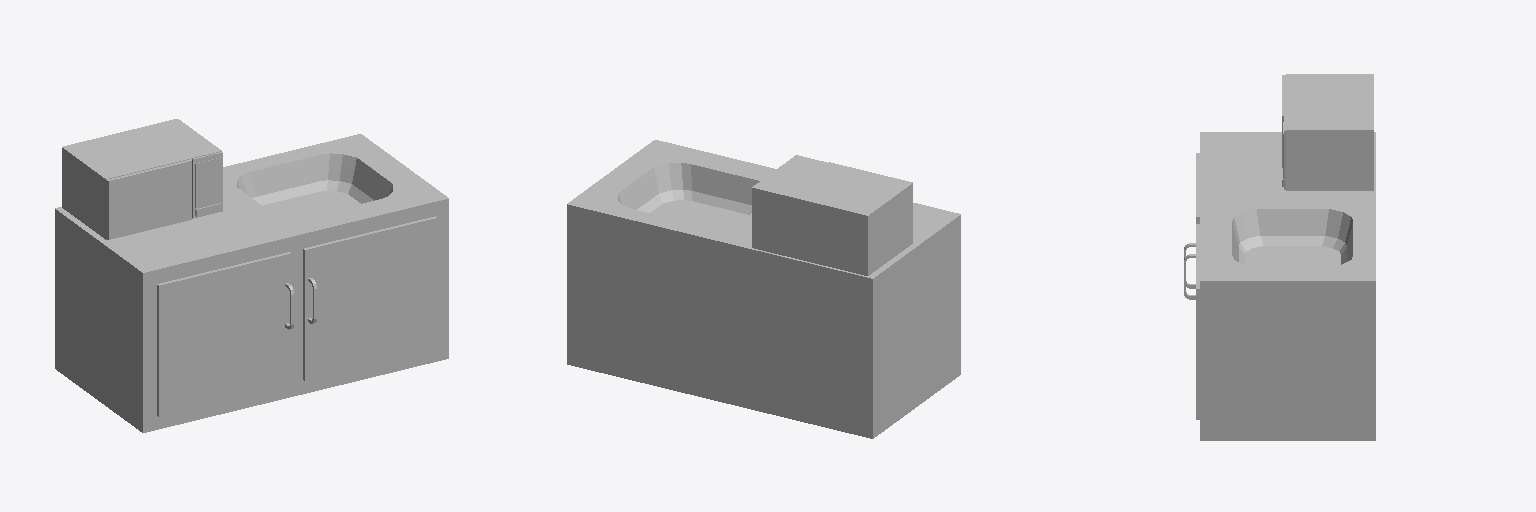
Rendered from kitchen_counter_with_appliance.obj.
The picture shows the model from 3 angles: view 1: azimuth 30°, elevation 25°; view 2: azimuth 150°, elevation 25°; view 3: azimuth 270°, elevation 25°; orthographic projection.
Parts seen in each view (by area): view 1: House_Pack.obj00f856ee-0940-472c-bbf3-ebf873640a90.116; view 2: House_Pack.obj00f856ee-0940-472c-bbf3-ebf873640a90.116; view 3: House_Pack.obj00f856ee-0940-472c-bbf3-ebf873640a90.116.
Boxes of the visible parts, box(x1,y1,x2,y2) form: House_Pack.obj00f856ee-0940-472c-bbf3-ebf873640a90.116: box(55, 119, 448, 432); House_Pack.obj00f856ee-0940-472c-bbf3-ebf873640a90.116: box(567, 140, 960, 438); House_Pack.obj00f856ee-0940-472c-bbf3-ebf873640a90.116: box(1184, 74, 1375, 440).
Bounding box in the file's own units: 22 × 15.18 × 11.99.